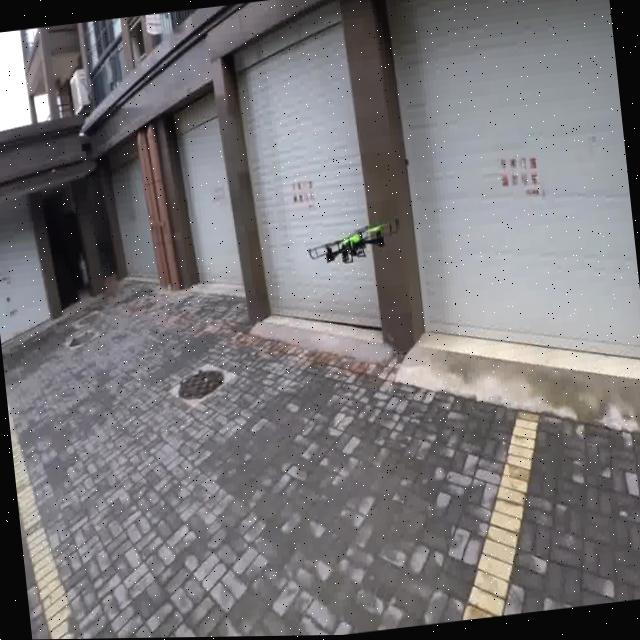drone: (296, 196, 403, 285)
